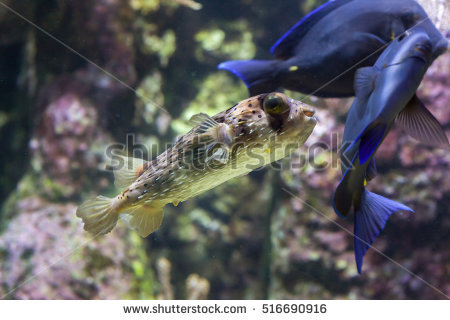Diodon_holocanthus: (76, 87, 316, 249)
